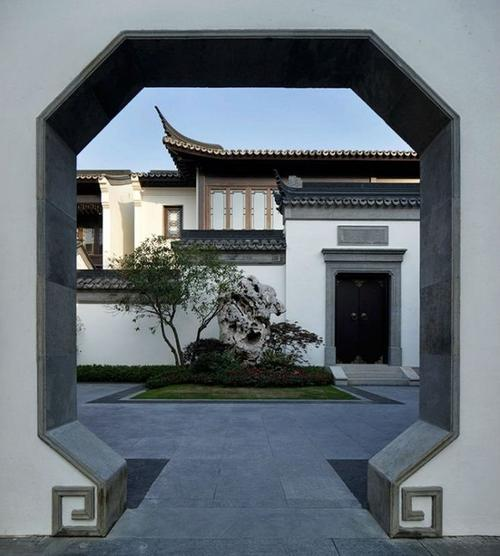buildings: (103, 75, 458, 353)
